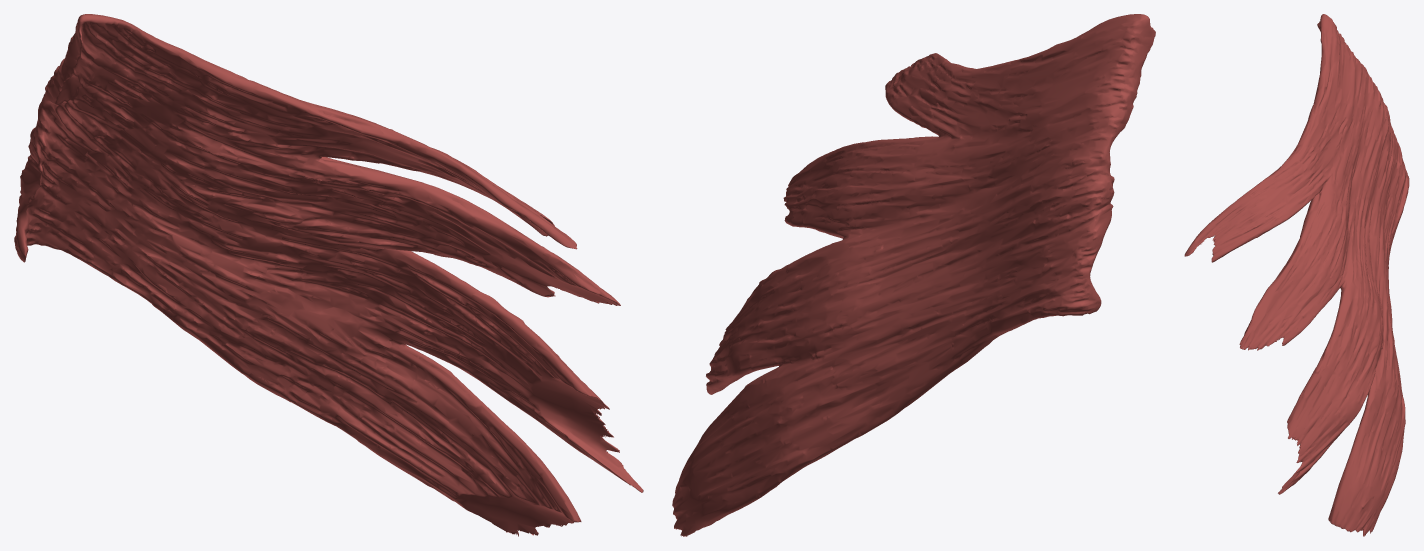
File: FMA13404.glb
3 views of the same model, side by side, from view 1: azimuth 30°, elevation 25°; view 2: azimuth 150°, elevation 25°; view 3: azimuth 270°, elevation 25° (orthographic). The views are drawn at different scales.
Parts seen in each view (by area): view 1: FMA13404; view 2: FMA13404; view 3: FMA13404.
Boxes of the visible parts, box(x1,y1,x2,y2) form: FMA13404: box(14, 14, 643, 536); FMA13404: box(672, 14, 1155, 536); FMA13404: box(1184, 14, 1409, 536).
Bounding box in the file's own units: 0.1012 × 0.1217 × 0.0643.
